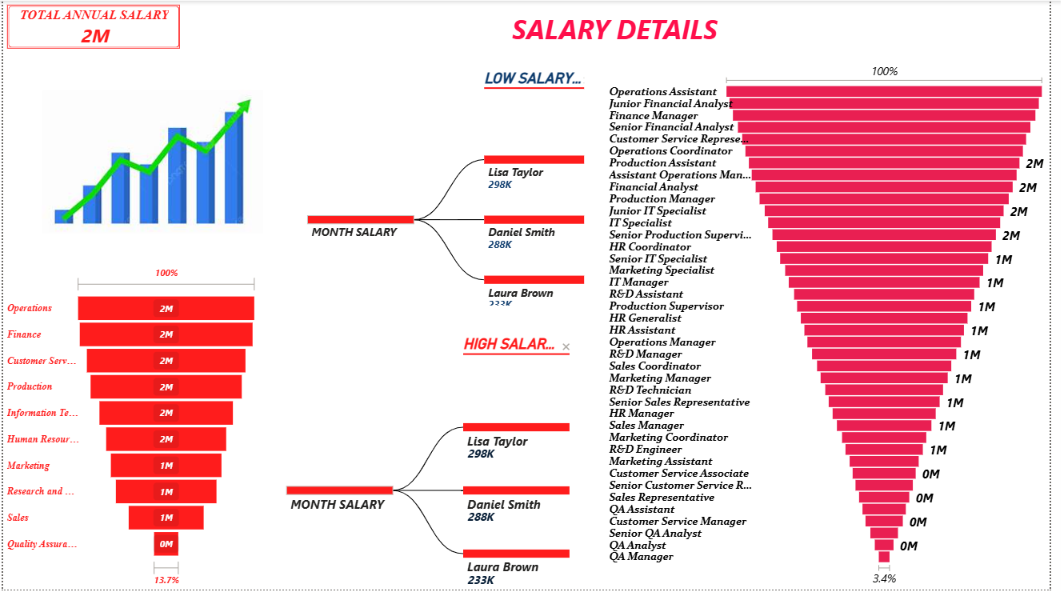

The page's visual inventory and layout, read from the dashboard file:
{"tool":"powerbi","page":{"name":"Page 5","canvas":[1280,720],"ordinal":5},"visuals":[{"type":"funnel","fields":{"Category":["Employee Management Data (Employee Management Data).Department"],"Y":["DATE_TABLE.YEAR SALARY"]},"box":[0,318.6,317.2,402.1],"z":0},{"type":"cardVisual","fields":{"Data":["Employee Management Data (Employee Management Data).total salary"]},"box":[0,0,221.3,63.6],"z":1000},{"type":"decompositionTreeVisual","fields":{"Analyze":["DATE_TABLE.MONTH SALARY"],"ExplainBy":["Employee Management Data (Employee Management Data).Full Name"]},"box":[316.7,396.2,398.6,324.1],"z":2000},{"type":"decompositionTreeVisual","fields":{"Analyze":["DATE_TABLE.MONTH SALARY"],"ExplainBy":["Employee Management Data (Employee Management Data).Full Name"]},"box":[342.4,70.9,373,306.9],"z":3000},{"type":"funnel","fields":{"Category":["Employee Management Data (Employee Management Data).Designation"],"Y":["DATE_TABLE.YEAR SALARY"]},"box":[736.1,70.9,544.2,649.3],"z":4000},{"type":"image","box":[14.7,108.8,336.3,174.9],"z":5000},{"type":"textbox","box":[410.9,7.3,673.8,63.6],"z":5001}]}

Visuals, with their boxes in screenshot pixels (x1, y1, x2, y2), scaled from the page's 1280x720 canvas onto the 1061x591 screenshot:
funnel - Employee Management Data (Employee Management Data).Department x DATE_TABLE.YEAR SALARY: 0,262,263,590
cardVisual - Employee Management Data (Employee Management Data).total salary: 0,0,183,52
decompositionTreeVisual - DATE_TABLE.MONTH SALARY x Employee Management Data (Employee Management Data).Full Name: 263,325,593,590
decompositionTreeVisual - DATE_TABLE.MONTH SALARY x Employee Management Data (Employee Management Data).Full Name: 284,58,593,310
funnel - Employee Management Data (Employee Management Data).Designation x DATE_TABLE.YEAR SALARY: 610,58,1060,590
image: 12,89,291,233
textbox: 341,6,899,58
